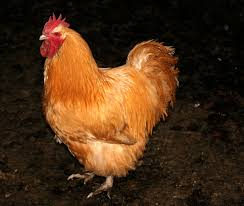buff: (35, 13, 157, 155)
